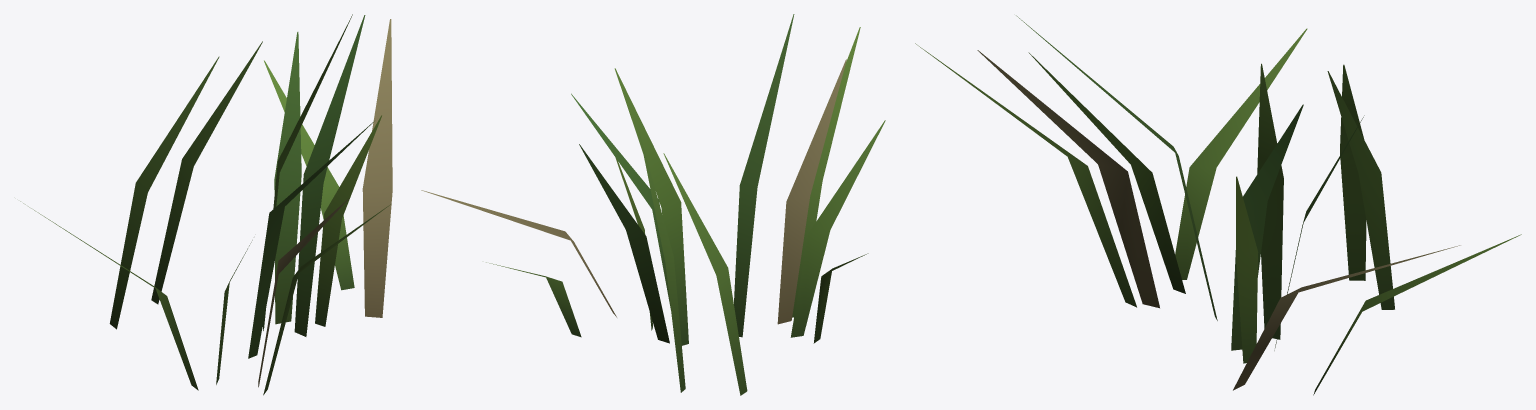
File: grass_tuft_05.glb
3 renders of one model, left to right at view 1: azimuth 30°, elevation 25°; view 2: azimuth 150°, elevation 25°; view 3: azimuth 270°, elevation 25°, orthographic. The views are drawn at different scales.
Parts seen in each view (by area): view 1: grass_tuft_05.blades; view 2: grass_tuft_05.blades; view 3: grass_tuft_05.blades.
Part boxes in pixels (<box>): grass_tuft_05.blades: <box>20,14,392,395</box>; grass_tuft_05.blades: <box>421,14,885,395</box>; grass_tuft_05.blades: <box>915,15,1521,395</box>.
Bounding box in the file's own units: 0.1896 × 0.1207 × 0.2077.
